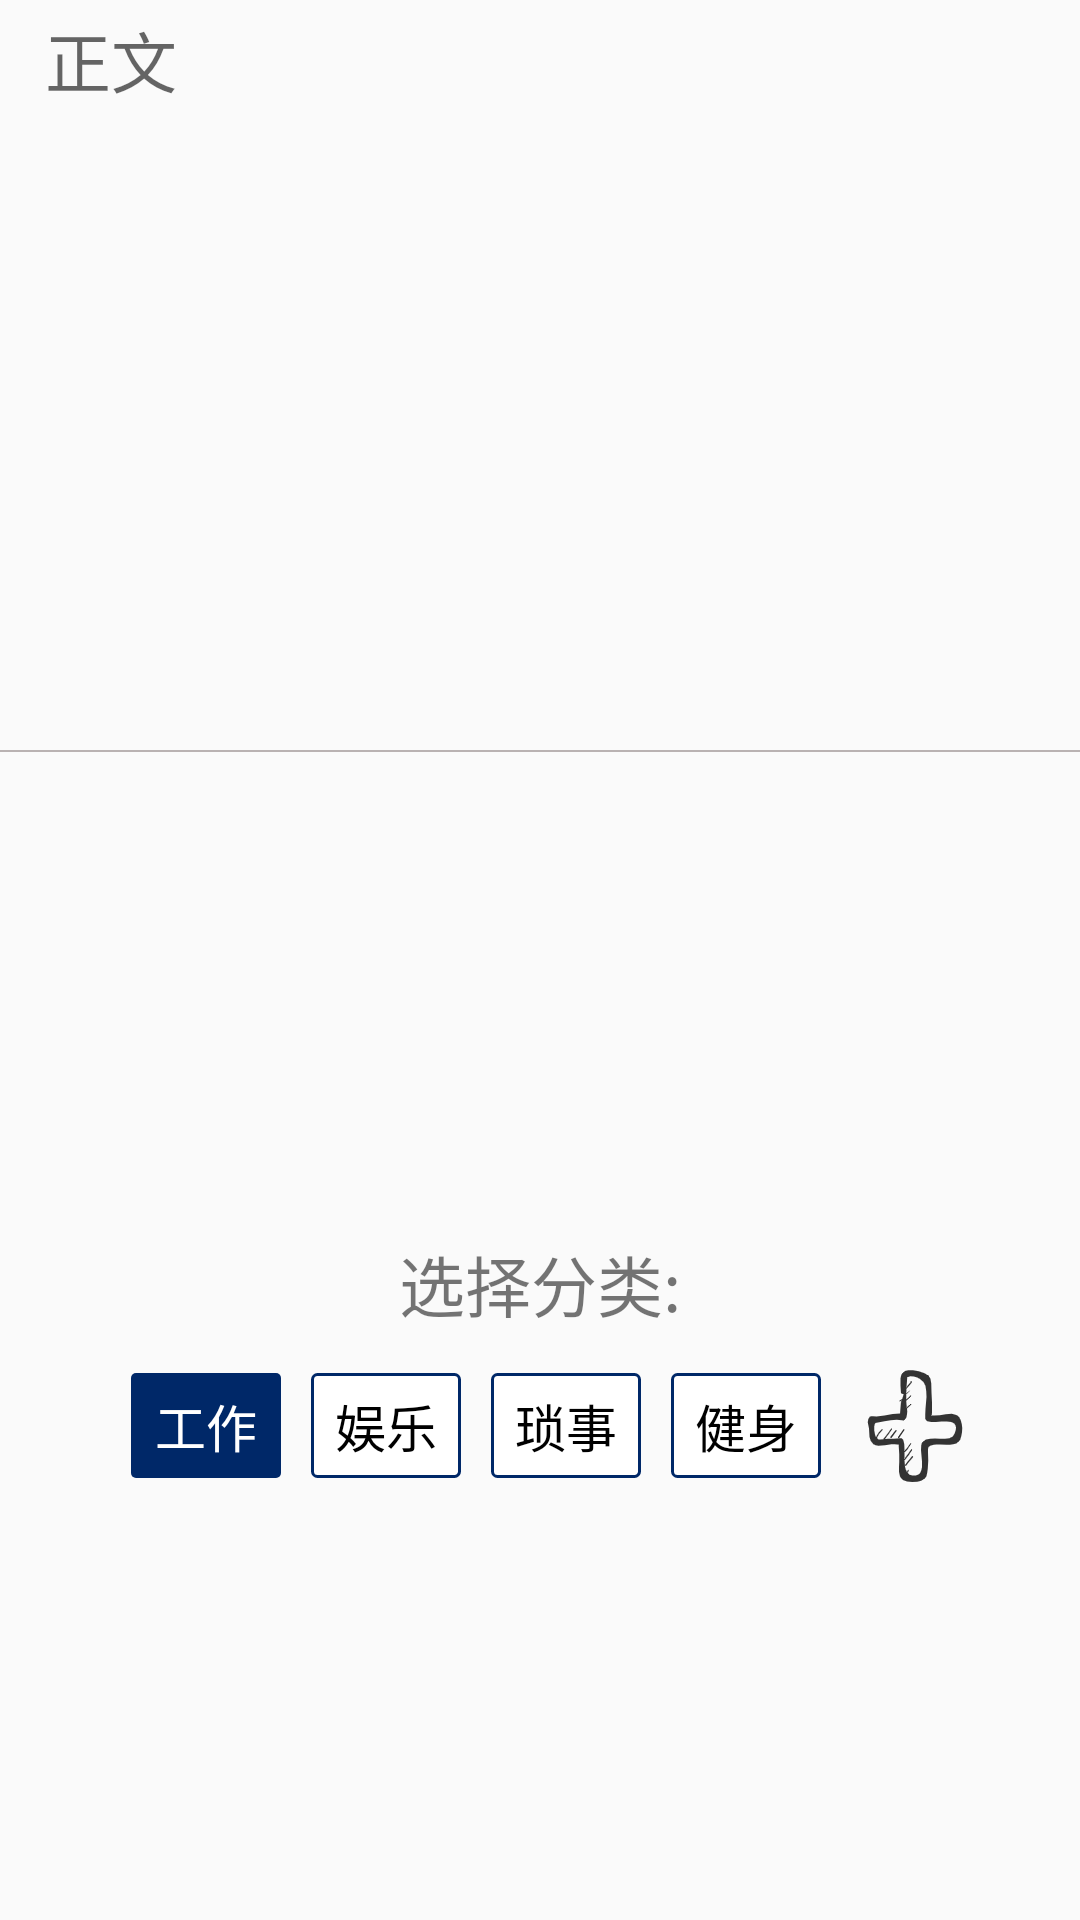

Where to tap for icons on this 1080*1920 app screen, as (x=x, y=y):
add: (x=915, y=1426)
